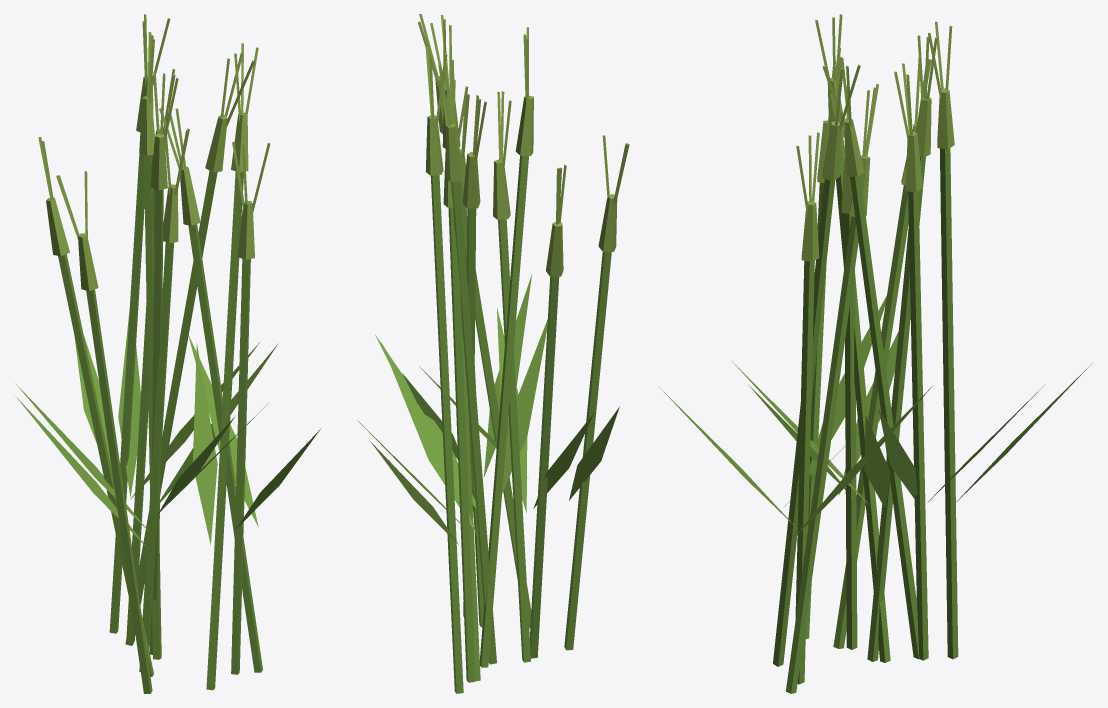
The model's file is barley_s2.glb.
3 renders of one model, left to right at view 1: azimuth 30°, elevation 25°; view 2: azimuth 150°, elevation 25°; view 3: azimuth 270°, elevation 25°, orthographic. The views are drawn at different scales.
Parts seen in each view (by area): view 1: barley; view 2: barley; view 3: barley.
Boxes of the visible parts, x1=… form: barley: x1=15, y1=14, x2=320, y2=693; barley: x1=357, y1=14, x2=629, y2=693; barley: x1=658, y1=14, x2=1092, y2=693.
Size of the model in its own units: 0.3486 by 0.8073 by 0.4929.
